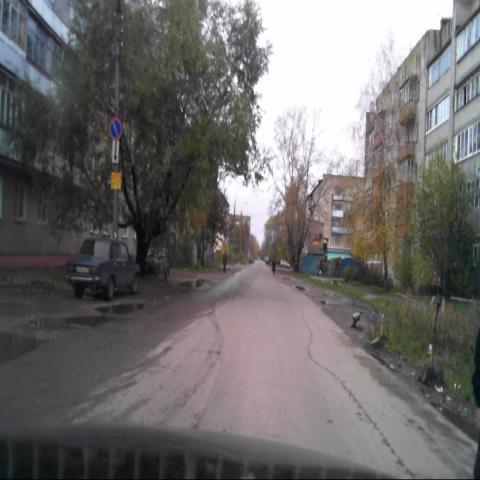3_28: (108, 117, 122, 140)
